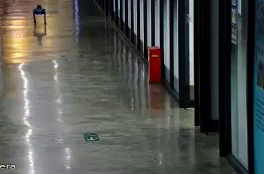robot dog: (30, 4, 50, 27)
